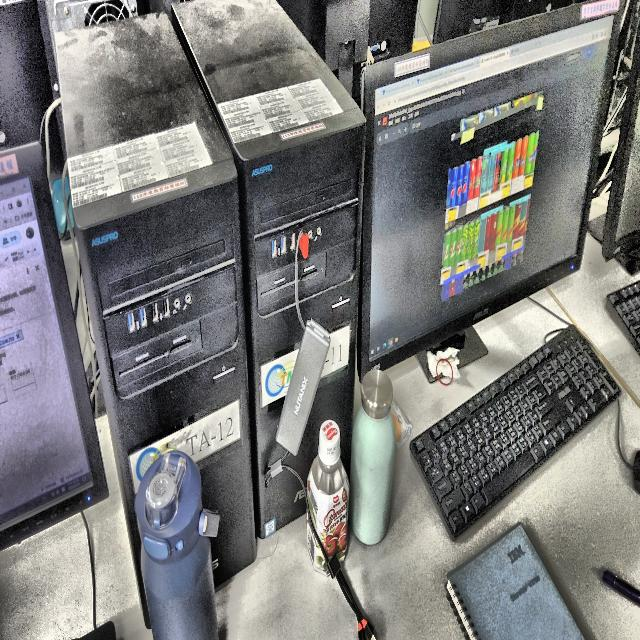HUB: (276, 249, 330, 456), (305, 493, 375, 640), (265, 454, 306, 491), (297, 232, 306, 255)
Keyboard: (410, 325, 621, 540), (606, 281, 640, 355)
Screen: (359, 0, 620, 377), (0, 145, 108, 548)
